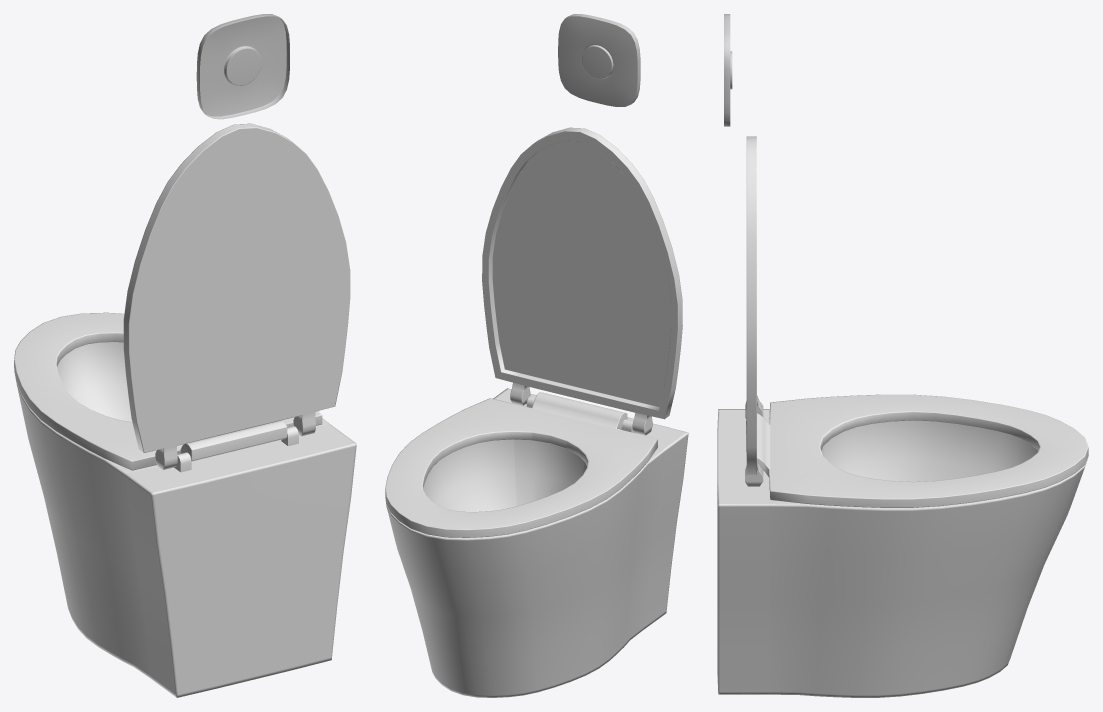
The model's file is Toilet06.fbx.
The picture shows the model from 3 angles, left to right: view 1: azimuth 30°, elevation 25°; view 2: azimuth 150°, elevation 25°; view 3: azimuth 270°, elevation 25°; orthographic projection. The views are drawn at different scales.
Visible parts, largest first — view 1: Toilet06, ToiletCover06, ToiletSeat06, ToiletFlushButtonPanel06; view 2: Toilet06, ToiletCover06, ToiletSeat06, ToiletFlushButtonPanel06, ToiletFlushButton06; view 3: Toilet06, ToiletSeat06, ToiletCover06, ToiletFlushButtonPanel06.
Boxes of the visible parts, x1,y1,x2,y2 form: Toilet06: [14, 342, 356, 697]; ToiletCover06: [123, 123, 350, 469]; ToiletSeat06: [14, 312, 322, 470]; ToiletFlushButtonPanel06: [196, 14, 289, 119]; Toilet06: [385, 388, 688, 697]; ToiletCover06: [482, 127, 682, 435]; ToiletSeat06: [385, 392, 657, 537]; ToiletFlushButtonPanel06: [558, 14, 640, 106]; ToiletFlushButton06: [582, 45, 613, 78]; Toilet06: [717, 409, 1088, 697]; ToiletSeat06: [746, 394, 1088, 507]; ToiletCover06: [745, 136, 763, 486]; ToiletFlushButtonPanel06: [724, 14, 730, 126].
Bounding box in the file's own units: 34.43 × 96.67 × 51.63.
